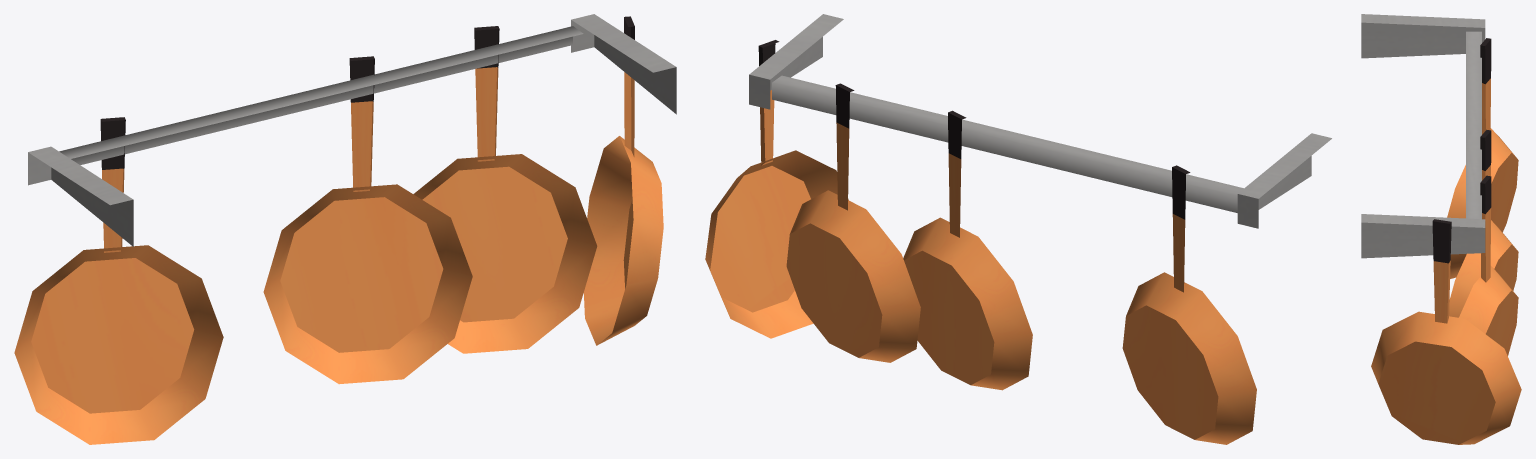
Rendered from interior_B_005.fbx.
3 renders of one model, left to right at view 1: azimuth 30°, elevation 25°; view 2: azimuth 150°, elevation 25°; view 3: azimuth 270°, elevation 25°, orthographic. The views are drawn at different scales.
Visible parts, largest first — view 1: interior_B_005; view 2: interior_B_005; view 3: interior_B_005.
Part boxes in pixels (box(x1,y1,x2,y2)): interior_B_005: box(14, 14, 676, 444); interior_B_005: box(705, 14, 1331, 444); interior_B_005: box(1361, 14, 1521, 444).
Size of the model in its own units: 96.8 by 46.03 by 28.93.
